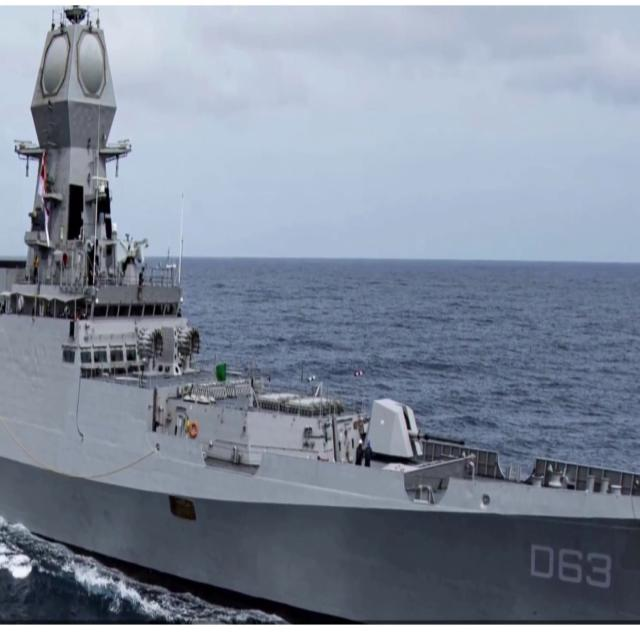OCR: (529, 537, 615, 594)
